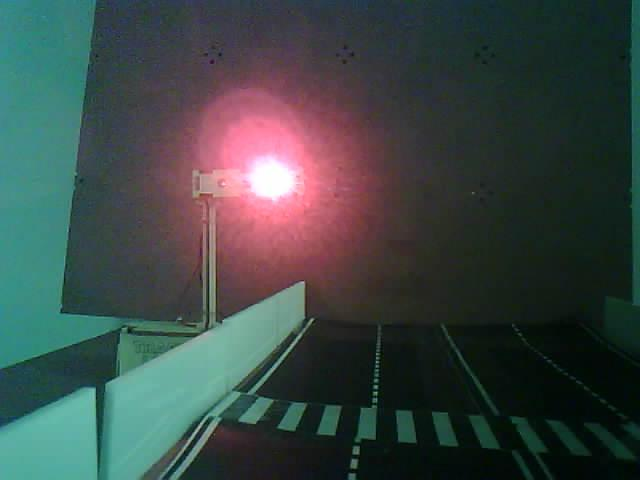crosswalk: (160, 372, 640, 480)
red: (146, 86, 360, 355)
